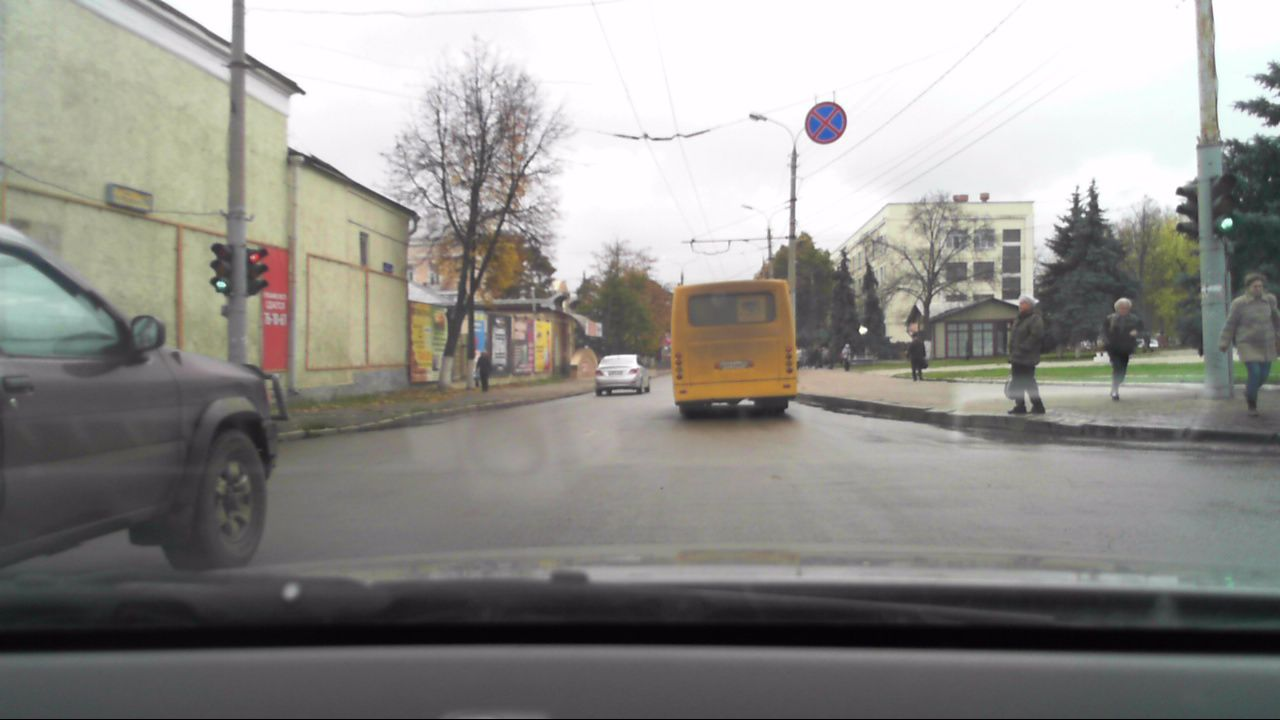No Parking: (802, 97, 849, 149)
